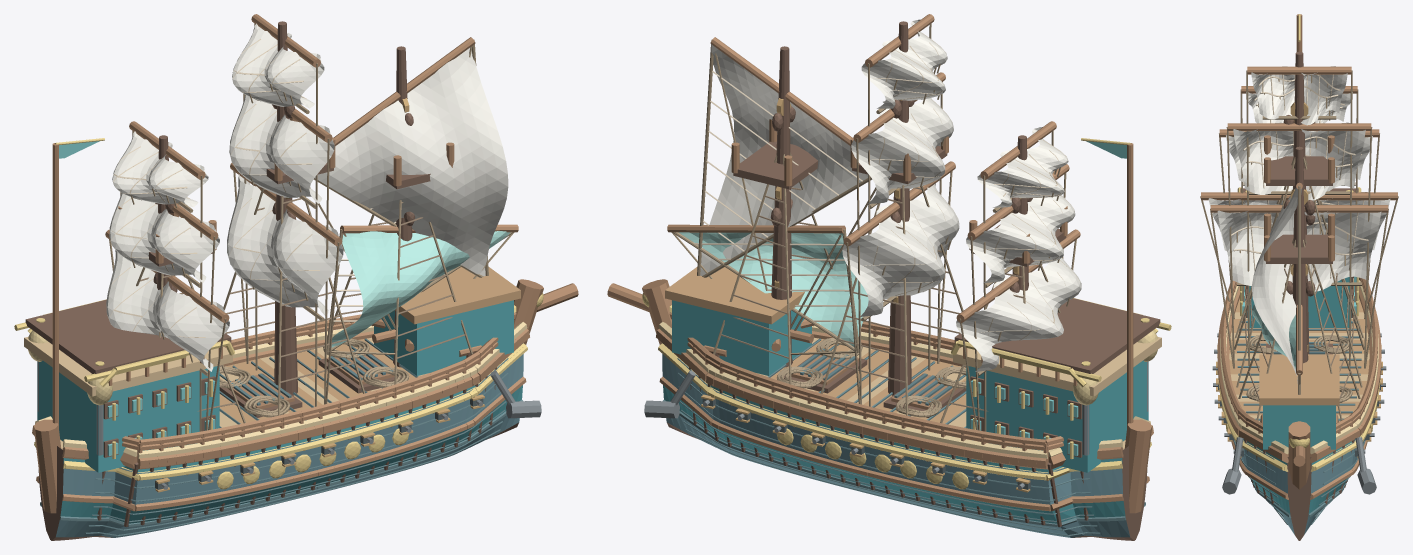
The model's file is atlantis_carrier-v5.glb.
3 views of the same model, side by side, from view 1: azimuth 30°, elevation 25°; view 2: azimuth 150°, elevation 25°; view 3: azimuth 270°, elevation 25° (orthographic). The views are drawn at different scales.
Parts seen in each view (by area): view 1: atlantis_carrier_sails_white, atlantis_carrier_deck_teal, atlantis_carrier_hull_hull2, atlantis_carrier_hull_blue, atlantis_carrier_hull_ghostdark, atlantis_carrier_sails_mint, atlantis_carrier_deck_darkwood, atlantis_carrier_rigging_hull2, atlantis_carrier_railings_hull2, atlantis_carrier_rigging_rope, atlantis_carrier_hull_teal, atlantis_carrier_masts_darkwood (+22 smaller); view 2: atlantis_carrier_sails_white, atlantis_carrier_deck_teal, atlantis_carrier_hull_hull2, atlantis_carrier_hull_blue, atlantis_carrier_masts_darkwood, atlantis_carrier_rigging_rope, atlantis_carrier_hull_ghostdark, atlantis_carrier_rigging_hull2, atlantis_carrier_deck_darkwood, atlantis_carrier_sails_mint, atlantis_carrier_railings_hull2, atlantis_carrier_hull_teal (+22 smaller); view 3: atlantis_carrier_sails_white, atlantis_carrier_masts_darkwood, atlantis_carrier_rigging_rope, atlantis_carrier_rigging_hull2, atlantis_carrier_hull_hull2, atlantis_carrier_deck_teal, atlantis_carrier_deck_wood, atlantis_carrier_masts_rope, atlantis_carrier_hull_wood, atlantis_carrier_railings_hull2, atlantis_carrier_hull_ghostdark, atlantis_carrier_hull_blue (+14 smaller).
Boxes of the visible parts, bbox=[...] form: atlantis_carrier_sails_white: bbox=[106, 23, 508, 371]; atlantis_carrier_deck_teal: bbox=[37, 300, 513, 472]; atlantis_carrier_hull_hull2: bbox=[32, 279, 578, 513]; atlantis_carrier_hull_blue: bbox=[56, 354, 523, 537]; atlantis_carrier_hull_ghostdark: bbox=[40, 338, 522, 536]; atlantis_carrier_sails_mint: bbox=[331, 231, 510, 347]; atlantis_carrier_deck_darkwood: bbox=[25, 299, 231, 457]; atlantis_carrier_rigging_hull2: bbox=[105, 14, 518, 322]; atlantis_carrier_railings_hull2: bbox=[122, 314, 498, 462]; atlantis_carrier_rigging_rope: bbox=[109, 23, 514, 441]; atlantis_carrier_hull_teal: bbox=[60, 385, 522, 523]; atlantis_carrier_masts_darkwood: bbox=[148, 21, 430, 395]; atlantis_carrier_sails_white: bbox=[700, 19, 1081, 371]; atlantis_carrier_deck_teal: bbox=[672, 300, 1148, 472]; atlantis_carrier_hull_hull2: bbox=[607, 279, 1153, 513]; atlantis_carrier_hull_blue: bbox=[662, 354, 1129, 537]; atlantis_carrier_masts_darkwood: bbox=[733, 21, 1066, 395]; atlantis_carrier_rigging_rope: bbox=[671, 23, 1076, 441]; atlantis_carrier_hull_ghostdark: bbox=[663, 338, 1145, 536]; atlantis_carrier_rigging_hull2: bbox=[667, 14, 1080, 322]; atlantis_carrier_deck_darkwood: bbox=[954, 298, 1160, 457]; atlantis_carrier_sails_mint: bbox=[679, 232, 868, 346]; atlantis_carrier_railings_hull2: bbox=[687, 321, 1063, 462]; atlantis_carrier_hull_teal: bbox=[663, 385, 1125, 523]; atlantis_carrier_sails_white: bbox=[1208, 66, 1390, 383]; atlantis_carrier_masts_darkwood: bbox=[1266, 51, 1332, 363]; atlantis_carrier_rigging_rope: bbox=[1200, 70, 1398, 394]; atlantis_carrier_rigging_hull2: bbox=[1201, 66, 1397, 375]; atlantis_carrier_hull_hull2: bbox=[1217, 286, 1381, 499]; atlantis_carrier_deck_teal: bbox=[1247, 277, 1351, 449]; atlantis_carrier_deck_wood: bbox=[1259, 354, 1339, 405]; atlantis_carrier_masts_rope: bbox=[1234, 157, 1364, 420]; atlantis_carrier_hull_wood: bbox=[1229, 298, 1369, 415]; atlantis_carrier_railings_hull2: bbox=[1221, 276, 1377, 433]; atlantis_carrier_hull_ghostdark: bbox=[1233, 298, 1365, 524]; atlantis_carrier_hull_blue: bbox=[1234, 440, 1364, 534].
Size of the model in its own units: 55.7 by 46.24 by 20.91.
